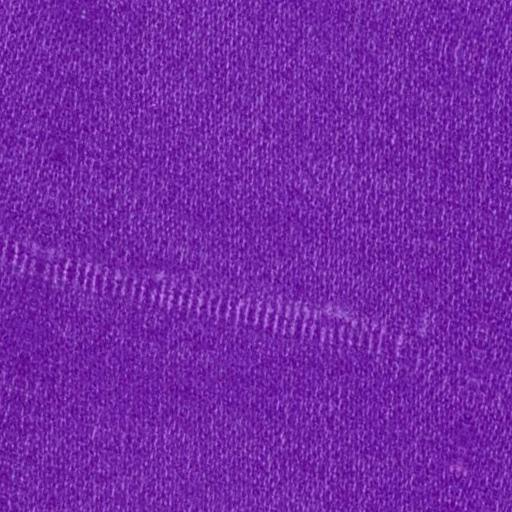slub: (0, 230, 405, 369)
